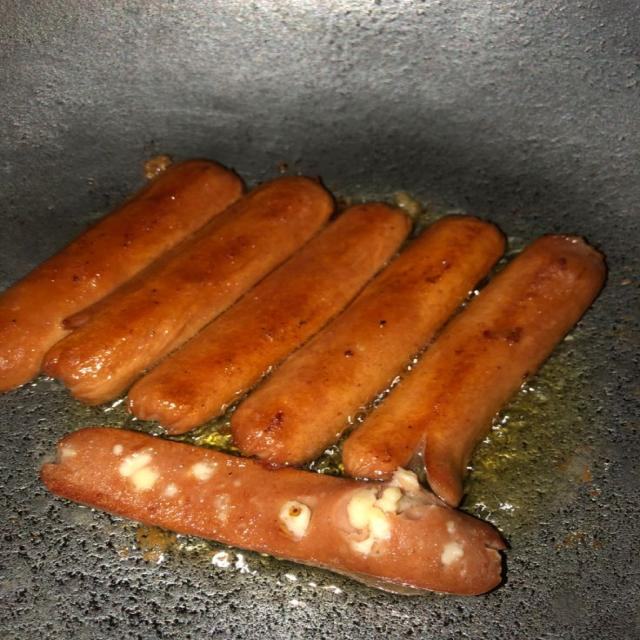sausage: (41, 428, 504, 594), (343, 236, 606, 505), (232, 216, 504, 465), (44, 177, 333, 404), (128, 203, 411, 433), (0, 160, 242, 391)
